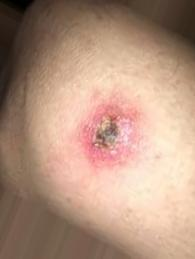Spider: (72, 97, 151, 175)
